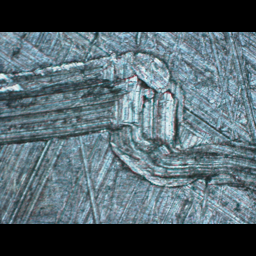d: (1, 48, 256, 202)
